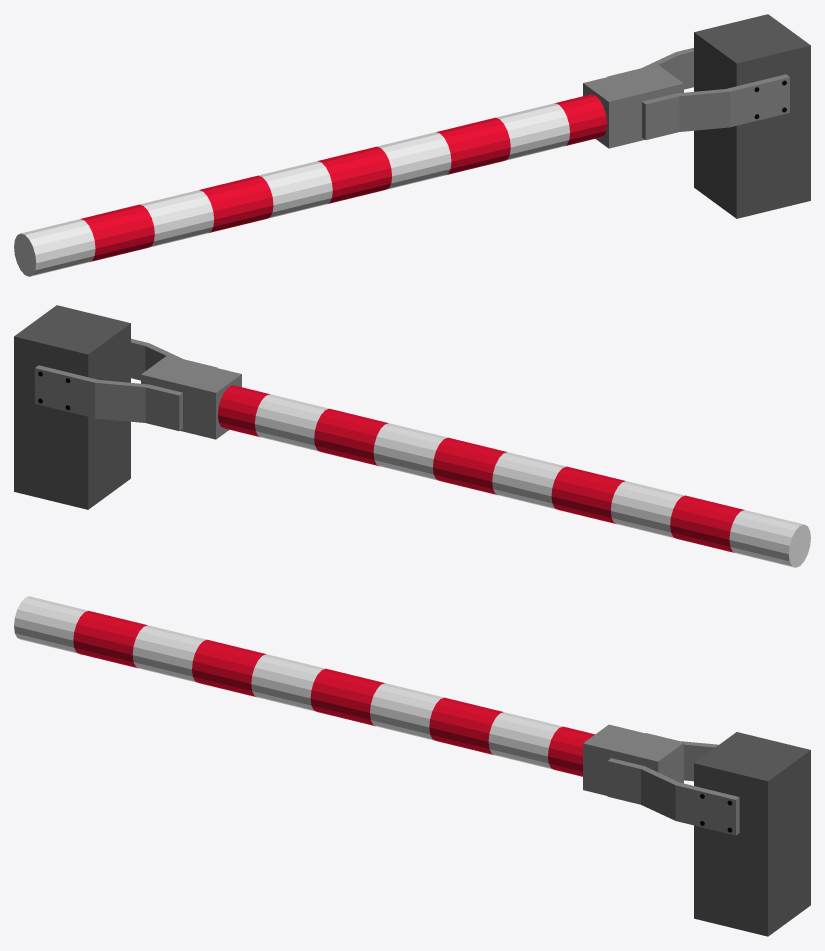
Rendered from Schranke.fbx.
3 views of the same model, one above another, from view 1: azimuth 30°, elevation 25°; view 2: azimuth 150°, elevation 25°; view 3: azimuth 330°, elevation 25° (orthographic).
Parts seen in each view (by area): view 1: Schranke, Stein; view 2: Schranke, Stein; view 3: Schranke, Stein.
Boxes of the visible parts, x1,y1,x2,y2 form: Schranke: [14, 47, 789, 276]; Stein: [694, 14, 810, 218]; Schranke: [35, 338, 810, 567]; Stein: [14, 305, 130, 509]; Schranke: [14, 596, 739, 835]; Stein: [694, 732, 810, 936].
Bounding box in the file's own units: 25.64 × 206 × 40.
